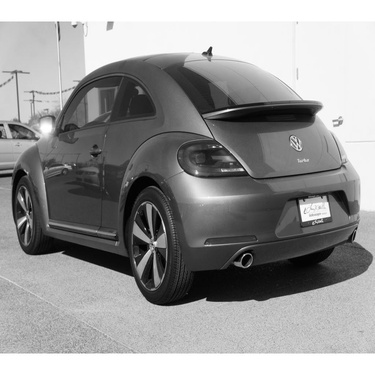car: (9, 36, 368, 309), (1, 116, 51, 176)
